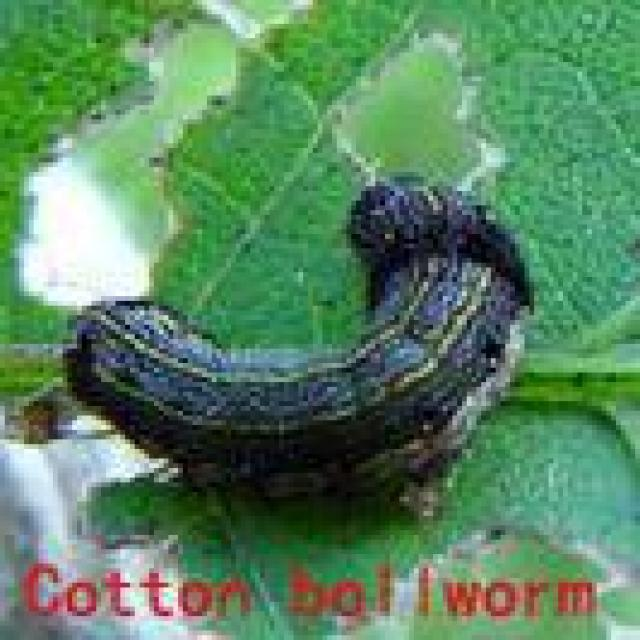BeetArmyWorm-Larva-: (62, 165, 549, 523)
